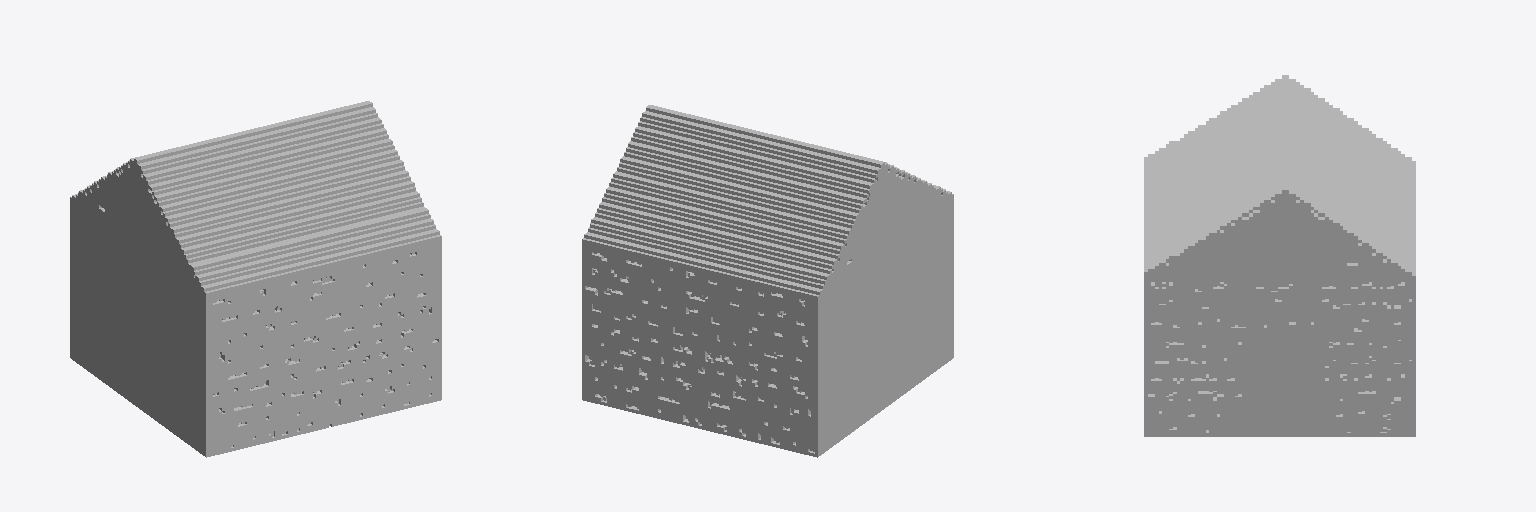
Rendered from House.obj.
3 renders of one model, left to right at view 1: azimuth 30°, elevation 25°; view 2: azimuth 150°, elevation 25°; view 3: azimuth 270°, elevation 25°, orthographic.
Parts seen in each view (by area): view 1: object 1; view 2: object 1; view 3: object 1.
Boxes of the visible parts, box(x1,y1,x2,y2) form: object 1: box(70, 101, 441, 457); object 1: box(582, 105, 953, 457); object 1: box(1144, 75, 1415, 436).
Size of the model in its own units: 7.5 by 7.5 by 7.5.